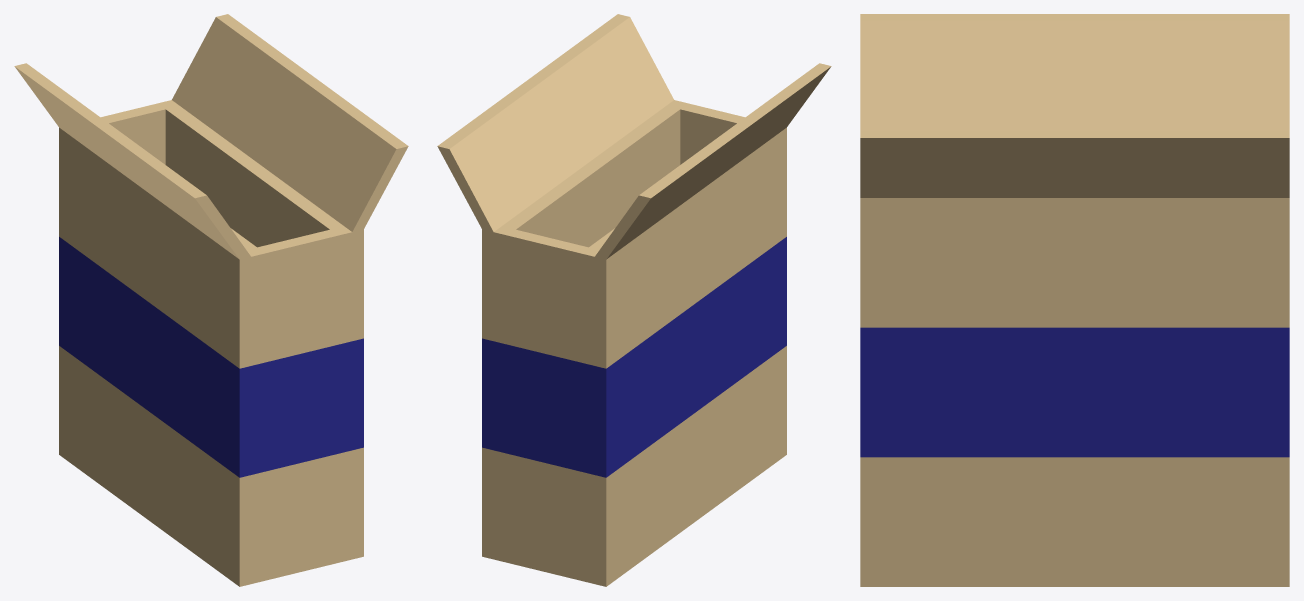
Rendered from TreatBox.glb.
The picture shows the model from 3 angles, left to right: view 1: azimuth 30°, elevation 25°; view 2: azimuth 150°, elevation 25°; view 3: azimuth 270°, elevation 25°; orthographic projection. The views are drawn at different scales.
Parts seen in each view (by area): view 1: Cube.005; view 2: Cube.005; view 3: Cube.005.
Boxes of the visible parts, box(x1,y1,x2,y2) form: Cube.005: box(14, 14, 408, 586); Cube.005: box(437, 14, 831, 586); Cube.005: box(860, 14, 1289, 586).
Size of the model in its own units: 0.2763 by 0.4936 by 0.4044.
